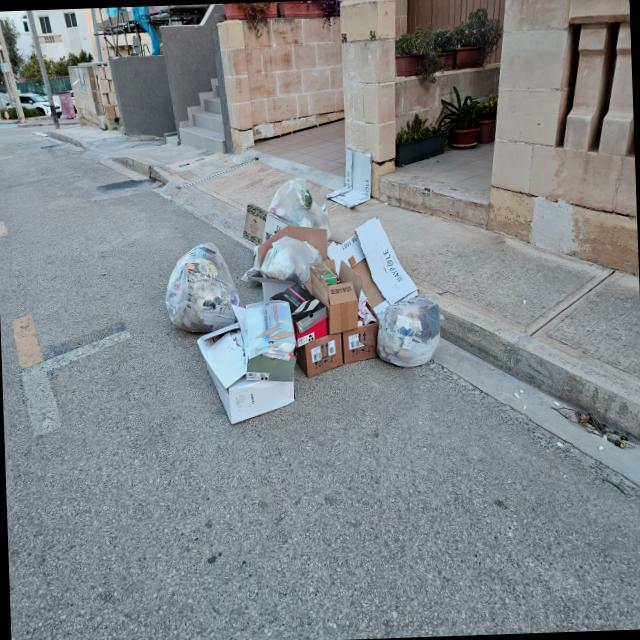grey_bag: (162, 240, 241, 326), (375, 296, 441, 368), (272, 177, 330, 228), (262, 240, 321, 278)
other_waste: (195, 304, 292, 424), (273, 270, 377, 378), (324, 216, 418, 300)
